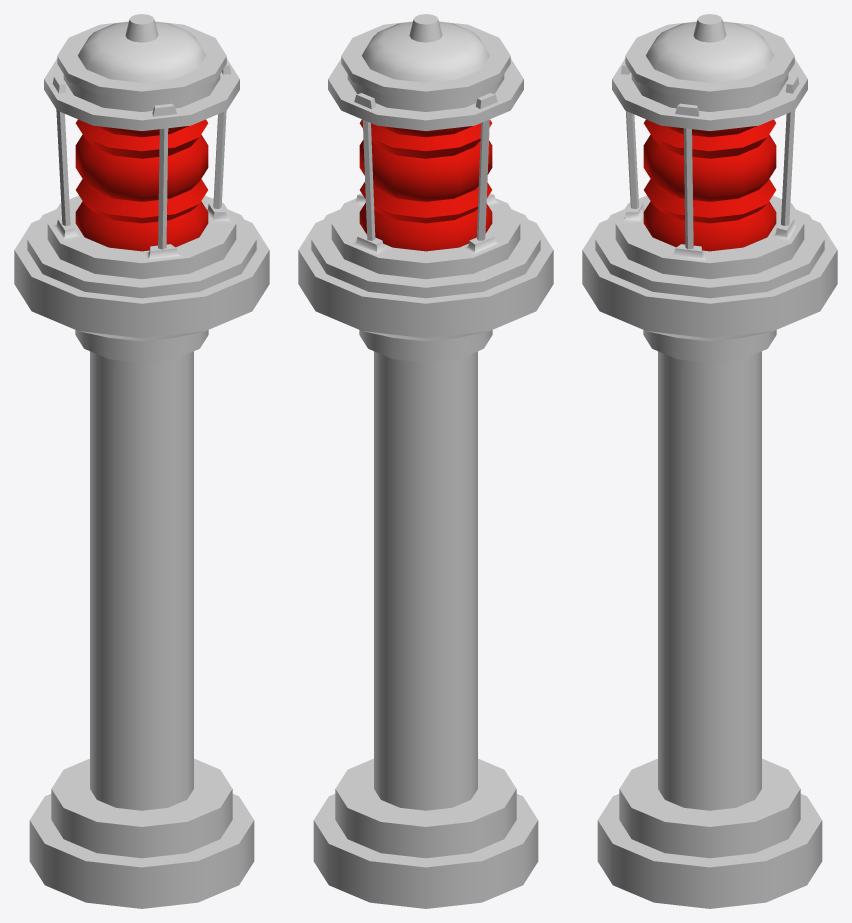
The model's file is Lamp-M00A.fbx.
The picture shows the model from 3 angles, left to right: view 1: azimuth 30°, elevation 25°; view 2: azimuth 150°, elevation 25°; view 3: azimuth 270°, elevation 25°; orthographic projection.
Visible parts, largest first — view 1: SmallLamp-M00A; view 2: SmallLamp-M00A; view 3: SmallLamp-M00A.
Part boxes in pixels (x1=…): SmallLamp-M00A: x1=14, y1=14, x2=269, y2=908; SmallLamp-M00A: x1=298, y1=14, x2=553, y2=908; SmallLamp-M00A: x1=582, y1=14, x2=837, y2=908.
Bounding box in the file's own units: 36.93 × 135 × 36.93.
